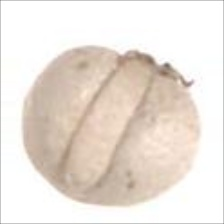L5: (54, 58, 158, 198), (114, 47, 197, 94), (41, 164, 107, 209)
L6: (19, 44, 204, 210)
